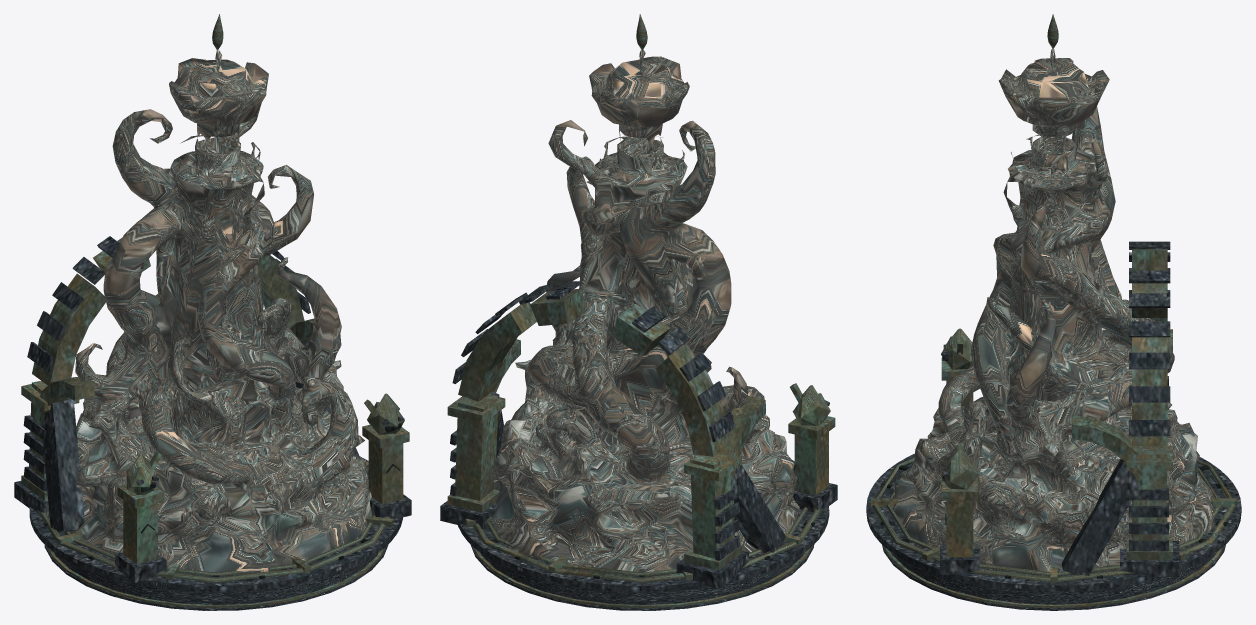
3 renders of one model, left to right at view 1: azimuth 30°, elevation 25°; view 2: azimuth 150°, elevation 25°; view 3: azimuth 270°, elevation 25°, orthographic.
Parts seen in each view (by area): view 1: CleanRelic, Broken temple and guardians, Foundation; view 2: CleanRelic, Broken temple and guardians, Foundation; view 3: CleanRelic, Broken temple and guardians, Foundation.
Boxes of the visible parts, box(x1,y1,x2,y2) form: CleanRelic: box(71, 49, 372, 574); Broken temple and guardians: box(14, 236, 411, 592); Foundation: box(44, 544, 388, 610); CleanRelic: box(490, 49, 799, 572); Broken temple and guardians: box(440, 281, 837, 592); Foundation: box(470, 544, 813, 610); CleanRelic: box(893, 48, 1214, 571); Broken temple and guardians: box(866, 241, 1241, 592); Foundation: box(882, 545, 1225, 610).
Size of the model in its own units: 11.36 by 17.54 by 11.36.
2 materials, 2 textured.
